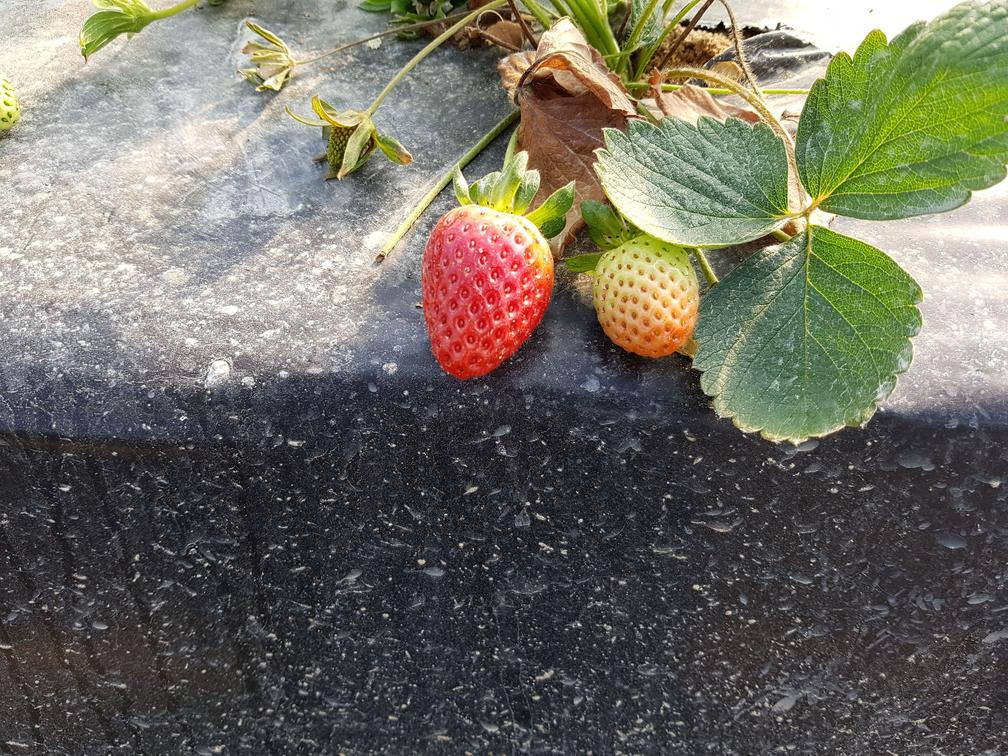Ripe: (414, 192, 566, 387)
Unripe: (582, 229, 708, 363)
